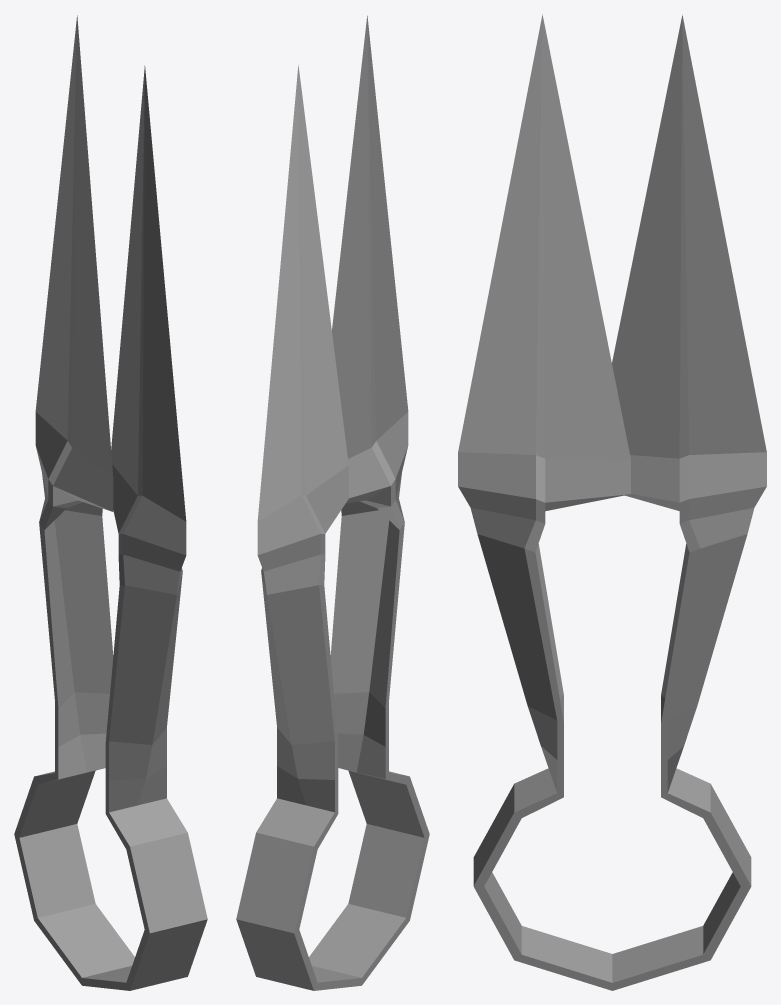
The model's file is shears02.gltf.
3 views of the same model, side by side, from view 1: azimuth 30°, elevation 25°; view 2: azimuth 150°, elevation 25°; view 3: azimuth 270°, elevation 25° (orthographic). The views are drawn at different scales.
Visible parts, largest first — view 1: Cylinder; view 2: Cylinder; view 3: Cylinder.
Part boxes in pixels (<box>): Cylinder: <box>14,15,207,990</box>; Cylinder: <box>236,15,429,990</box>; Cylinder: <box>458,14,766,990</box>.
Size of the model in its own units: 0.0168 by 0.26 by 0.0756.
1 material, 1 textured.
